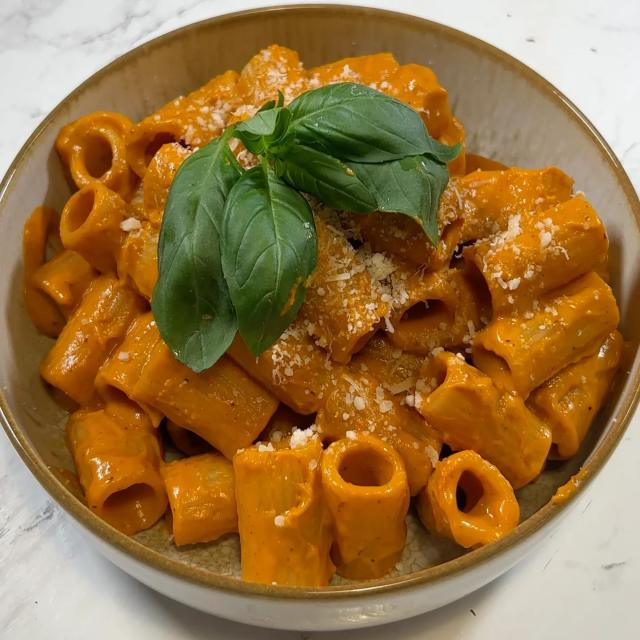pasta: (19, 31, 624, 600)
